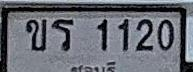0: (158, 19, 174, 50)
1: (118, 18, 128, 50), (97, 19, 107, 50)
2: (136, 18, 152, 50)
A02: (26, 19, 46, 50)
A35: (52, 18, 74, 51)
